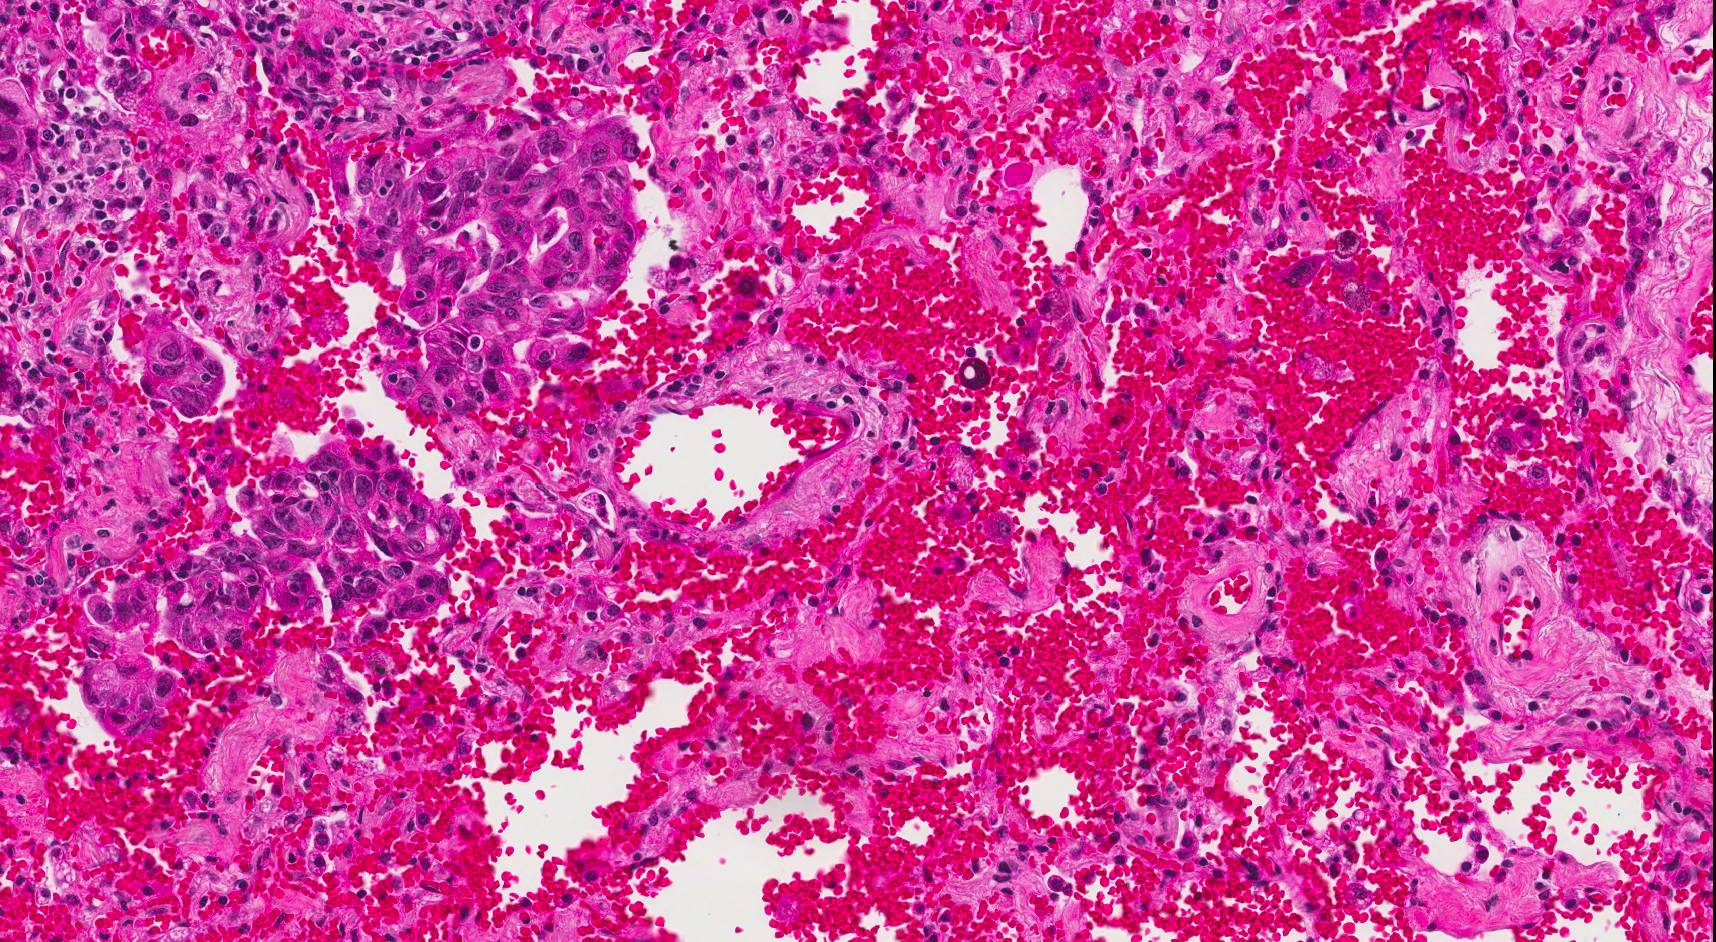stas: (82, 440, 463, 740), (353, 116, 647, 420), (141, 328, 224, 416)
